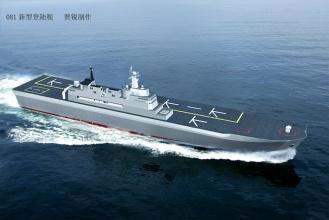warship: (13, 64, 315, 152)
